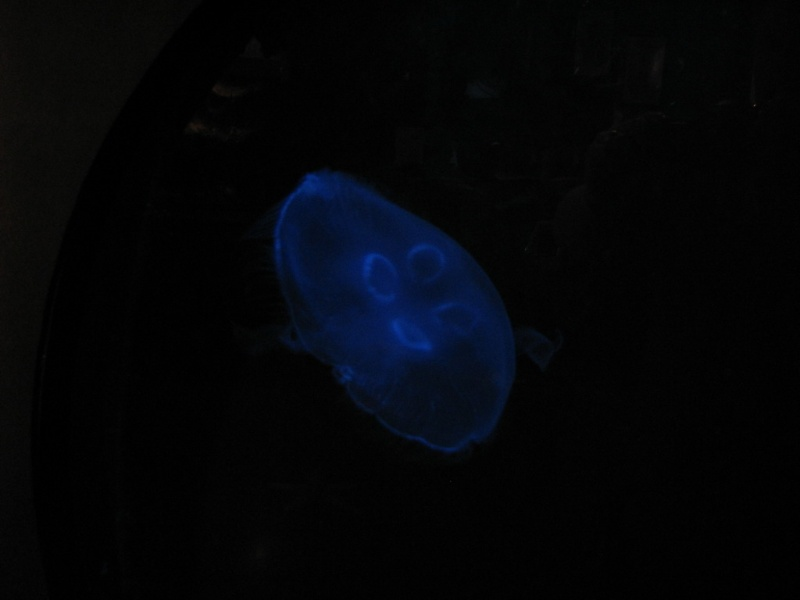Jellyfish: (257, 160, 516, 447)
